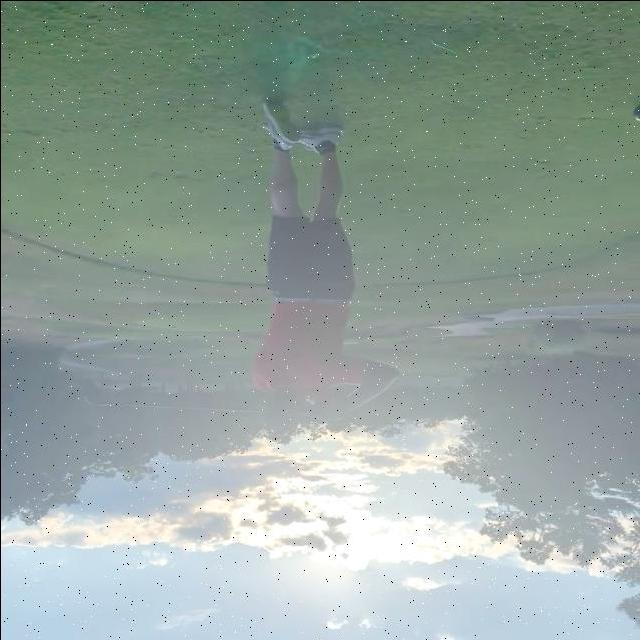ClubHandle: (81, 379, 349, 419)
ClubHead: (81, 383, 103, 405)
